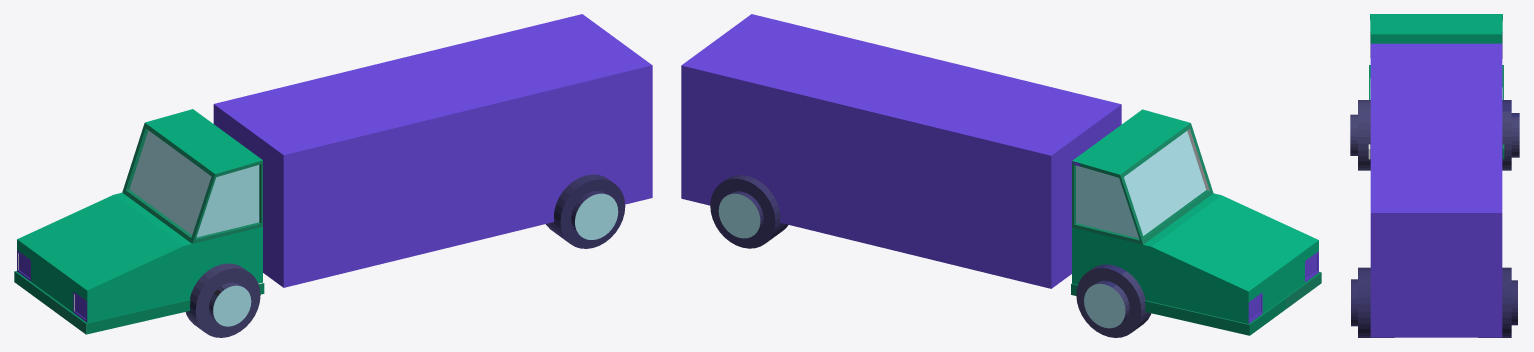
File: camion 1.fbx
3 renders of one model, left to right at view 1: azimuth 30°, elevation 25°; view 2: azimuth 150°, elevation 25°; view 3: azimuth 270°, elevation 25°, orthographic. The views are drawn at different scales.
Parts seen in each view (by area): view 1: Cylinder.001; view 2: Cylinder.001; view 3: Cylinder.001.
Boxes of the visible parts, x1=… form: Cylinder.001: x1=14, y1=14, x2=652, y2=337; Cylinder.001: x1=681, y1=14, x2=1321, y2=337; Cylinder.001: x1=1350, y1=14, x2=1519, y2=337.
Size of the model in its own units: 1749 by 477 by 480.
1 material, 1 textured.
